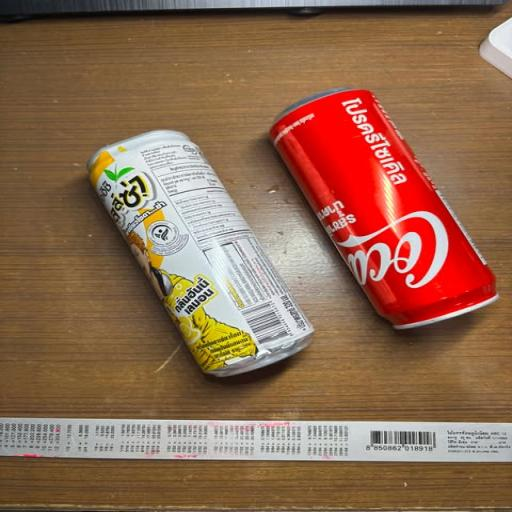canned: (63, 111, 323, 395), (265, 65, 510, 347)
